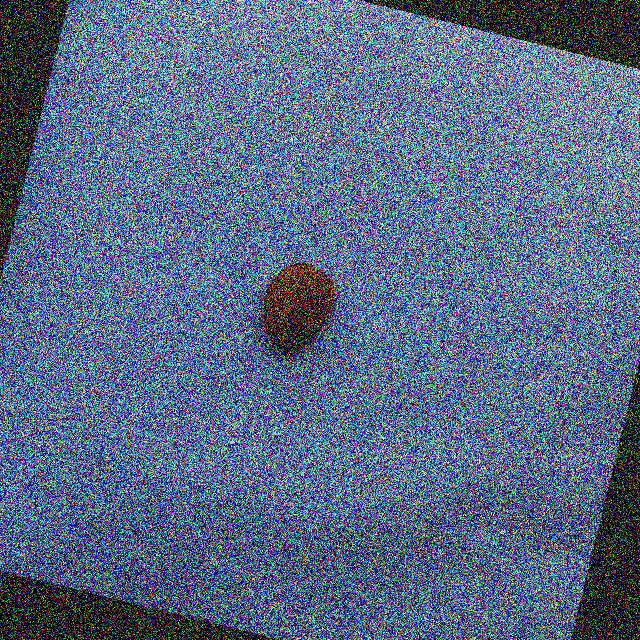grade3: (250, 252, 347, 365)
